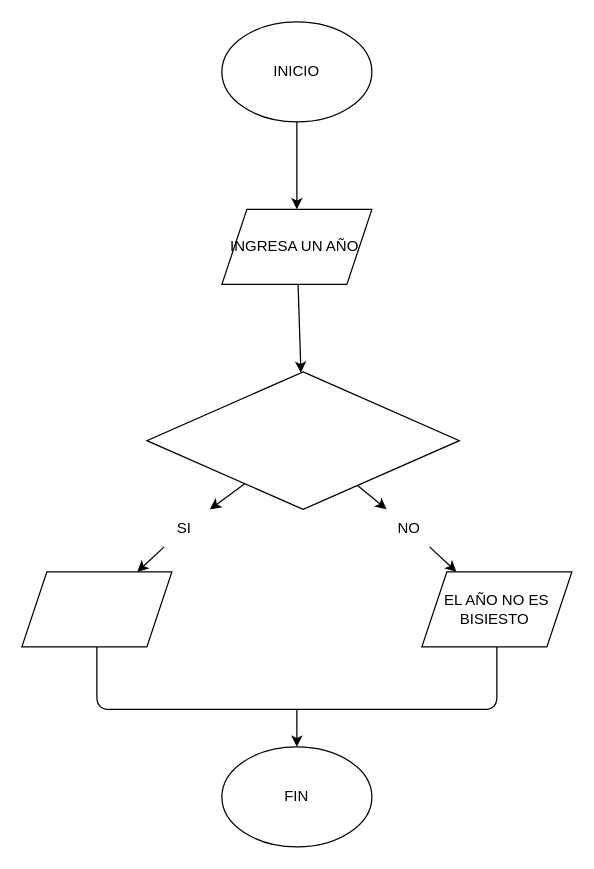
Some shapes in this 594 by 869 pixel diagram are drawn without their labels. The shapes that lost their labels are listed below. From the top down, each one's centre as x and y in pixels, then its label:
(302,440): (año%4=0 ) y (año%100!=0) O (año%400=0)
(96,609): EL AÑO ES BISIESTO
